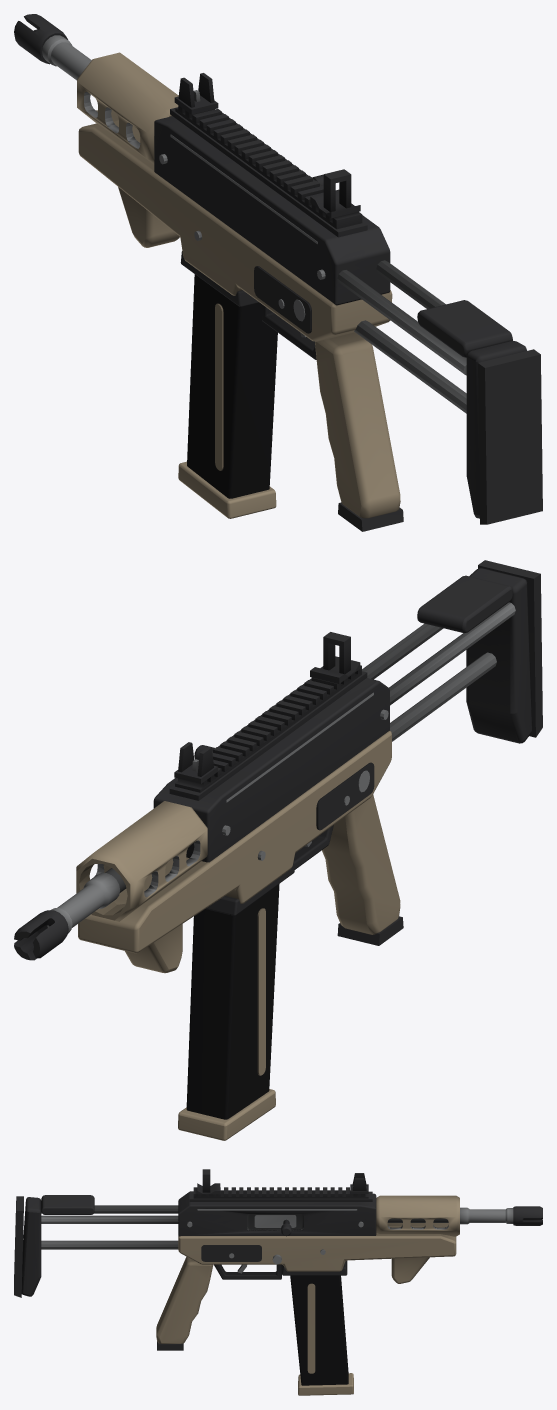
File: mako_pdw.glb
The picture shows the model from 3 angles, top to bottom: view 1: azimuth 30°, elevation 25°; view 2: azimuth 150°, elevation 25°; view 3: azimuth 270°, elevation 25°; orthographic projection. The views are drawn at different scales.
Visible parts, largest first — view 1: Receiver, Stock, Magazine, IronSights, Barrel, Foregrip; view 2: Receiver, Magazine, Stock, Barrel, IronSights, Foregrip; view 3: Receiver, Stock, Magazine, Barrel, IronSights, Foregrip, Bolt.
Part boxes in pixels (<box>): Receiver: <box>77,52,403,531</box>; Stock: <box>337,260,542,524</box>; Magazine: <box>178,274,277,518</box>; IronSights: <box>174,73,360,218</box>; Barrel: <box>14,14,91,80</box>; Foregrip: <box>118,187,179,247</box>; Receiver: <box>76,665,403,953</box>; Magazine: <box>178,884,279,1140</box>; Stock: <box>362,560,542,743</box>; Barrel: <box>14,868,126,960</box>; IronSights: <box>174,632,360,783</box>; Foregrip: <box>125,924,182,973</box>; Receiver: <box>156,1187,459,1350</box>; Stock: <box>14,1195,178,1297</box>; Magazine: <box>290,1275,353,1395</box>; Barrel: <box>387,1206,542,1225</box>; IronSights: <box>197,1169,368,1194</box>; Foregrip: <box>391,1257,429,1283</box>; Bolt: <box>254,1215,296,1227</box>.
Bounding box in the file's own units: 0.0815 × 0.3159 × 0.695.
